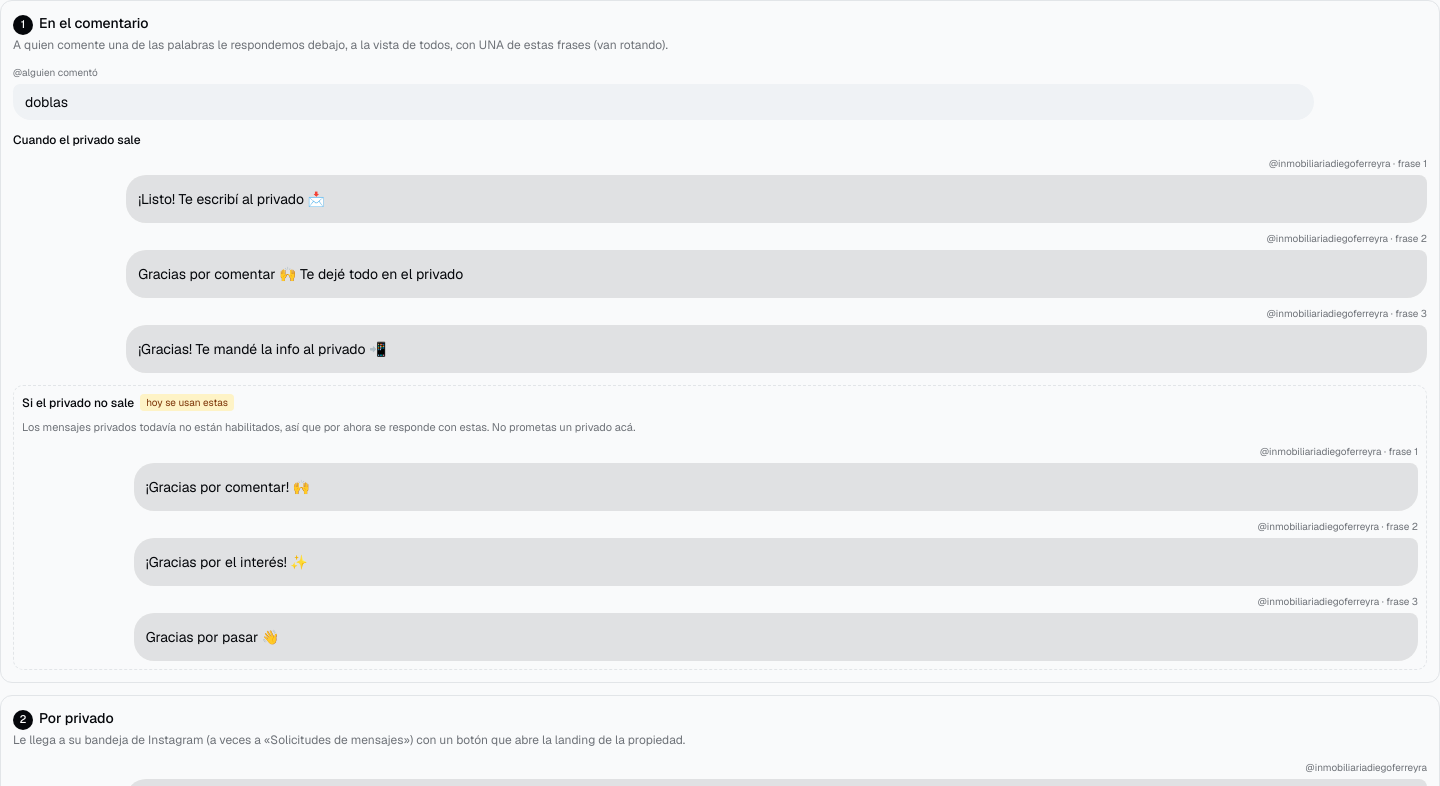
Test case: RevisionMensajes › avisa si una frase de respaldo promete un privado
Replace the text in the field named "Frase 1 si el privado no sale" with "Te escribí al privado" at (776, 487), box [146,471,1406,503]
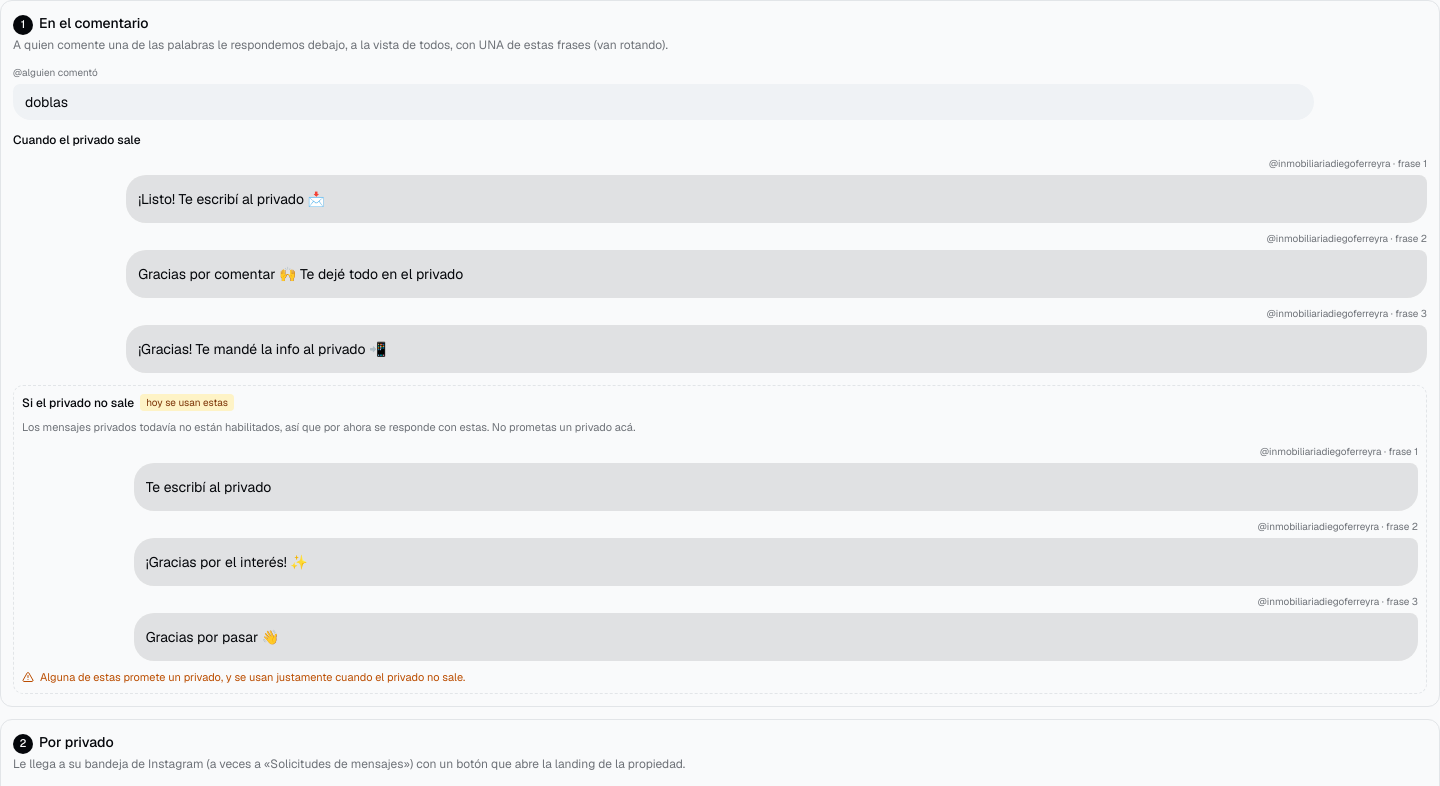
Expected: the message shows "promete un privado", [40,670,465,684]
